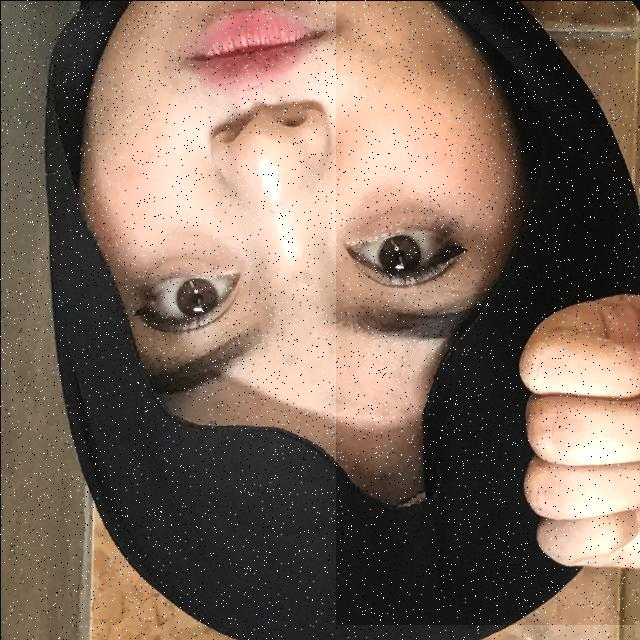sedih: (335, 0, 640, 624)
